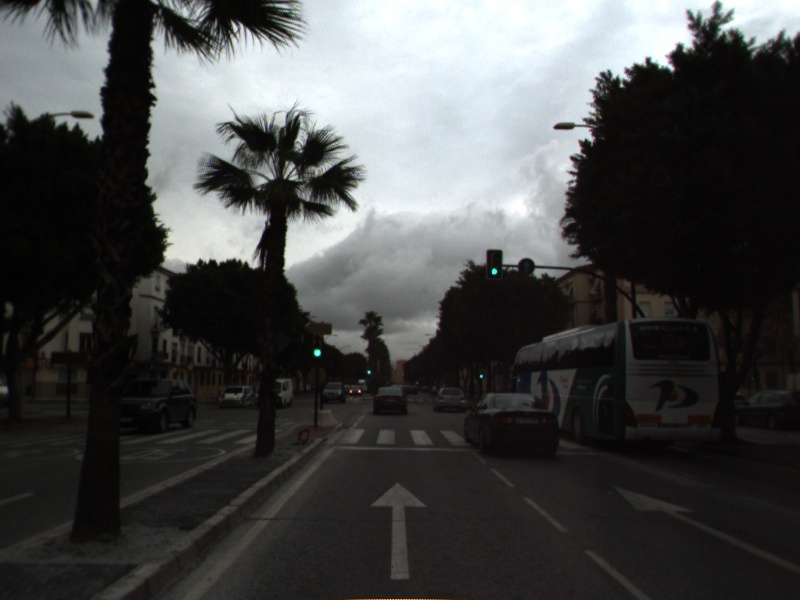STRAIGHT: (612, 483, 800, 573), (367, 479, 430, 582)
